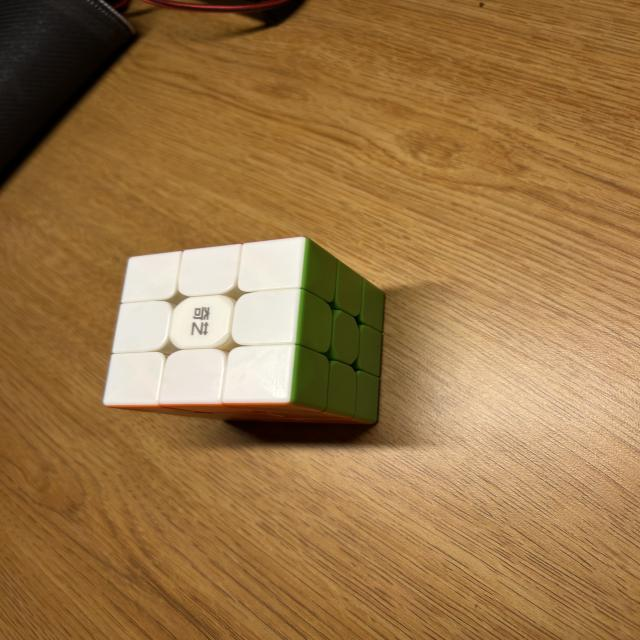Rubiks Cube: (102, 237, 387, 423)
